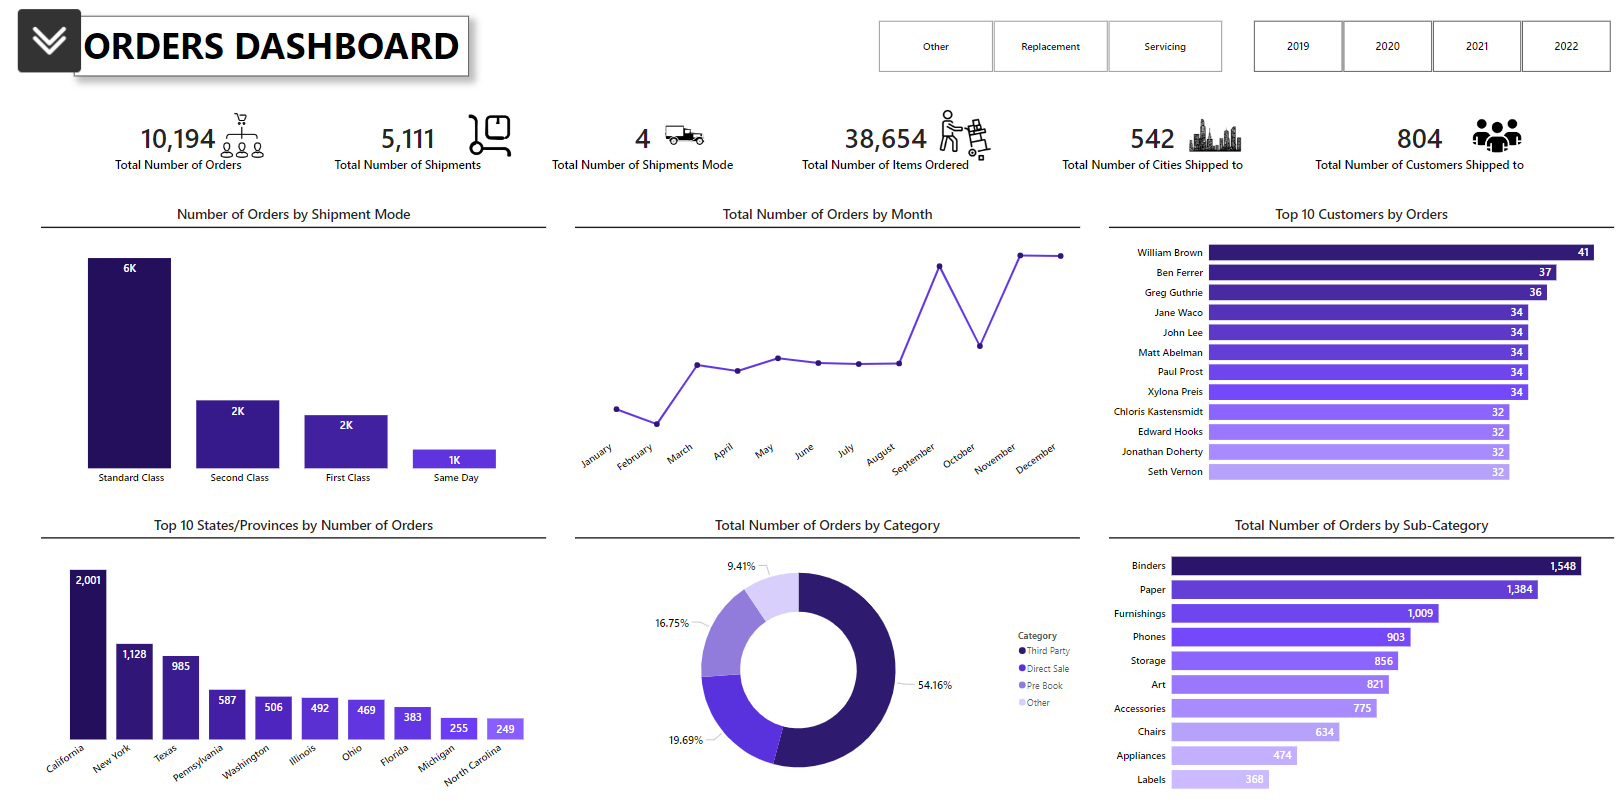

Layout of this report page (visuals, bound fields, positions):
{"tool":"powerbi","page":{"name":"ORDERS","canvas":[2400,1200],"ordinal":1},"visuals":[{"type":"textbox","box":[111.1,26.7,582.2,88.9],"z":0},{"type":"image","box":[17.7,11.1,112.8,103.9],"z":1000},{"type":"slicer","fields":{"Values":["Orders.Order Date.Variation.Date Hierarchy.Year"]},"box":[1824.4,26.7,575.6,88.9],"z":2000},{"type":"slicer","fields":{"Values":["Orders.Segment"]},"box":[1271.1,26.7,555.6,88.9],"z":3000},{"type":"card","fields":{"Values":["Orders.Total Number of Orders"]},"box":[131.1,157.8,266.7,117.8],"z":4000},{"type":"image","box":[313.3,157.8,88.9,91.1],"z":5000},{"type":"card","fields":{"Values":["Orders.Total Number of Orders Shipped"]},"box":[469.3,157.8,266.7,117.8],"z":6000},{"type":"card","fields":{"Values":["Orders.Total Number of Ship Mode"]},"box":[806.7,157.8,282.2,117.8],"z":7000},{"type":"image","box":[677.8,157.8,88.9,91.1],"z":8000},{"type":"image","box":[968.9,157.8,84.4,91.1],"z":9000},{"type":"card","fields":{"Values":["Orders.Total Customer"]},"box":[1933.3,157.8,322.2,117.8],"z":10000},{"type":"card","fields":{"Values":["Orders.Total Number of City Shipped to"]},"box":[1539.6,157.8,322.2,117.8],"z":11000},{"type":"card","fields":{"Values":["Orders.Total Quantity Ordered"]},"box":[1145.8,157.8,322.2,117.8],"z":12000},{"type":"image","box":[1375.6,157.8,97.8,91.1],"z":13000},{"type":"image","box":[2160,157.8,95.6,91.1],"z":14000},{"type":"image","box":[1742.2,157.8,100,91.1],"z":15000},{"type":"clusteredColumnChart","title":"Number of Orders by Shipment Mode","fields":{"Category":["Orders.Ship Mode"],"Y":["Orders.Total Number of Orders"]},"box":[62.2,304.4,744.4,422.2],"z":16000},{"type":"clusteredColumnChart","title":"Top 10 States/Provinces by Number of Orders","fields":{"Y":["Orders.Total Number of Orders"],"Category":["Orders.State/Province"]},"box":[62.2,762.2,744.4,422.2],"z":17000},{"type":"lineChart","fields":{"Y":["Orders.Total Number of Orders"],"Category":["Orders.Order Date.Variation.Date Hierarchy.Month"]},"box":[848.9,304.4,744.4,422.2],"z":18000},{"type":"clusteredBarChart","fields":{"Category":["Orders.Sub-Category"],"Y":["Orders.Total Number of Orders"]},"box":[1635.6,762.2,744.4,422.2],"z":19000},{"type":"clusteredBarChart","title":"Top 10 Customers by Orders","fields":{"Category":["Orders.Customer Name"],"Y":["Orders.Total Number of Orders"]},"box":[1635.6,304.4,744.4,422.2],"z":19001},{"type":"donutChart","fields":{"Category":["Orders.Category"],"Y":["Orders.Total Number of Orders"]},"box":[849,762,744,422],"z":19002}]}

Visuals, with their boxes in screenshot pixels (x1, y1, x2, y2), scaled from the page's 2400x1200 canvas onto the 1624x807 screenshot:
textbox: (75, 18, 469, 78)
image: (12, 7, 88, 77)
slicer - Orders.Order Date.Variation.Date Hierarchy.Year: (1235, 18, 1623, 78)
slicer - Orders.Segment: (860, 18, 1236, 78)
card - Orders.Total Number of Orders: (89, 106, 269, 185)
image: (212, 106, 272, 167)
card - Orders.Total Number of Orders Shipped: (318, 106, 498, 185)
card - Orders.Total Number of Ship Mode: (546, 106, 737, 185)
image: (459, 106, 519, 167)
image: (656, 106, 713, 167)
card - Orders.Total Customer: (1308, 106, 1526, 185)
card - Orders.Total Number of City Shipped to: (1042, 106, 1260, 185)
card - Orders.Total Quantity Ordered: (775, 106, 993, 185)
image: (931, 106, 997, 167)
image: (1462, 106, 1526, 167)
image: (1179, 106, 1247, 167)
"Number of Orders by Shipment Mode" clusteredColumnChart: (42, 205, 546, 489)
"Top 10 States/Provinces by Number of Orders" clusteredColumnChart: (42, 513, 546, 797)
lineChart - Orders.Total Number of Orders x Orders.Order Date.Variation.Date Hierarchy.Month: (574, 205, 1078, 489)
clusteredBarChart - Orders.Sub-Category x Orders.Total Number of Orders: (1107, 513, 1610, 797)
"Top 10 Customers by Orders" clusteredBarChart: (1107, 205, 1610, 489)
donutChart - Orders.Category x Orders.Total Number of Orders: (574, 512, 1078, 796)
